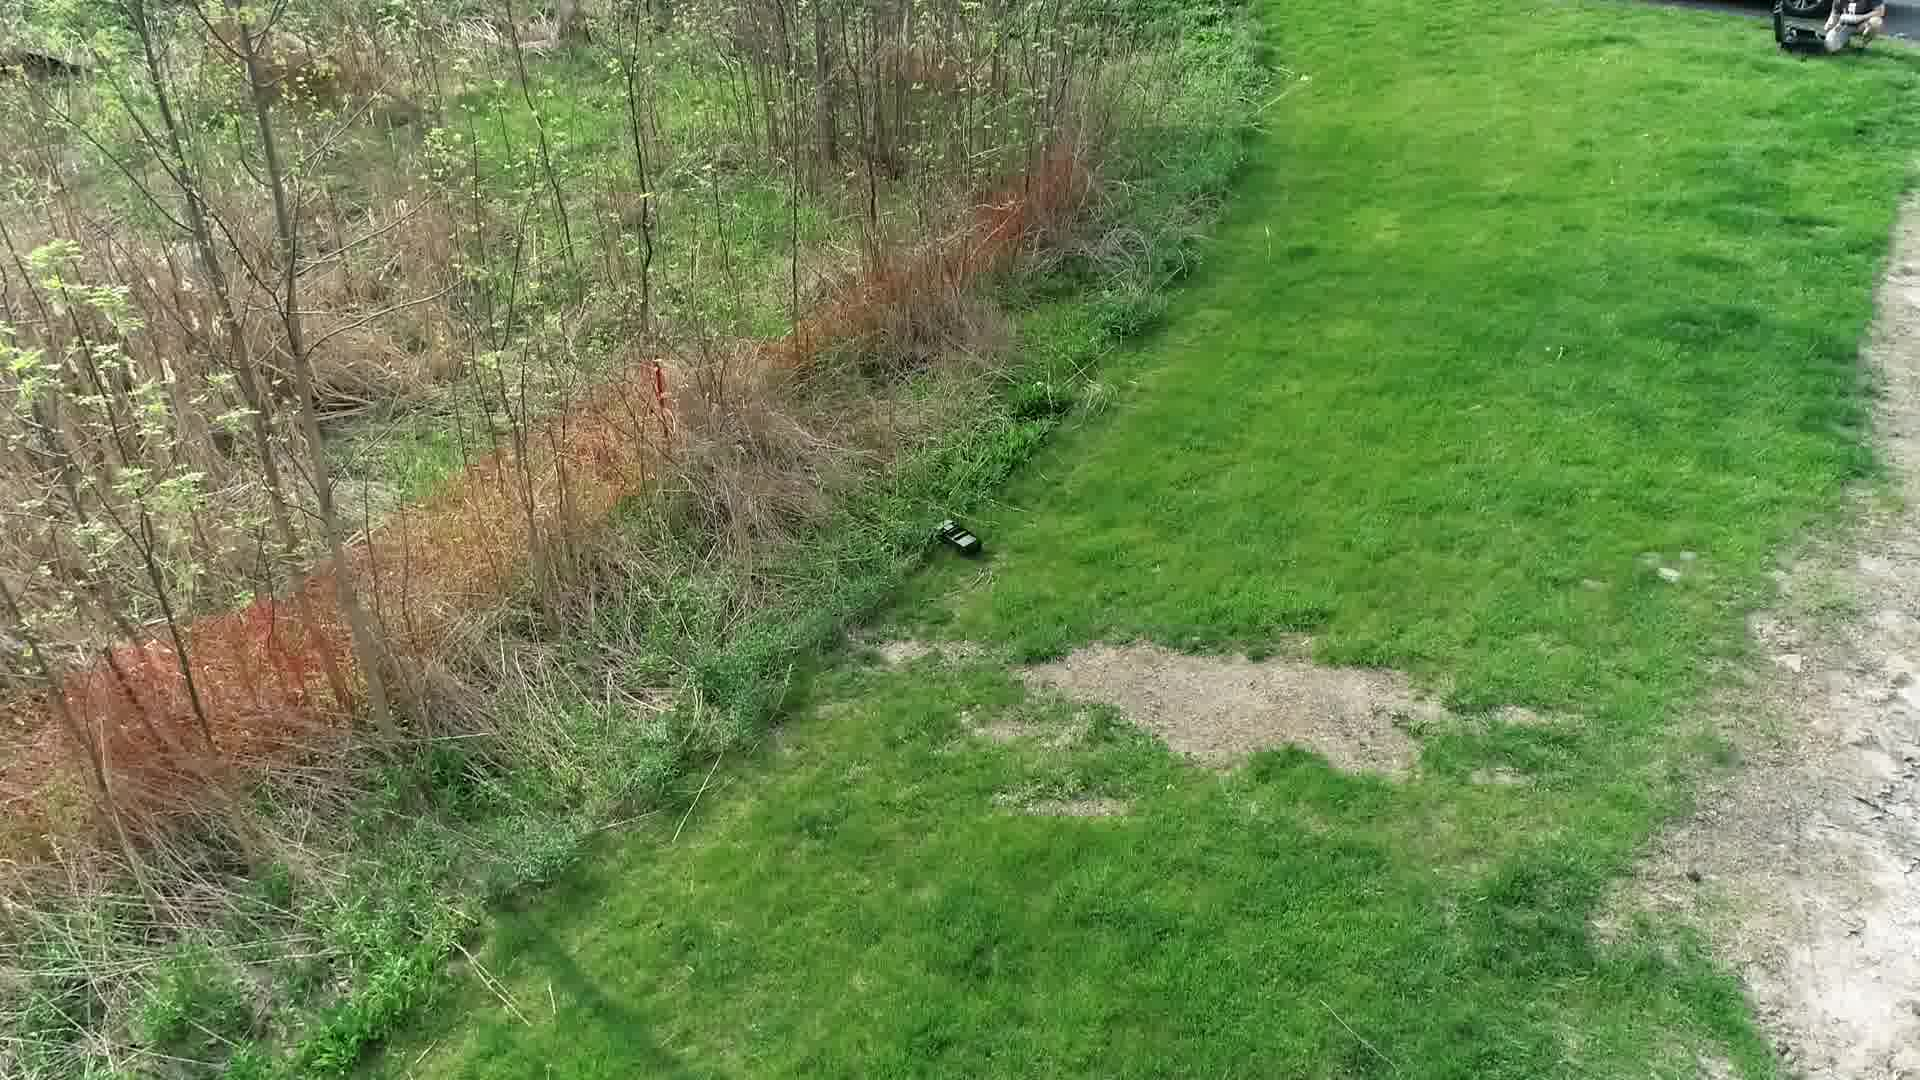transporter9: (934, 521, 986, 560)
